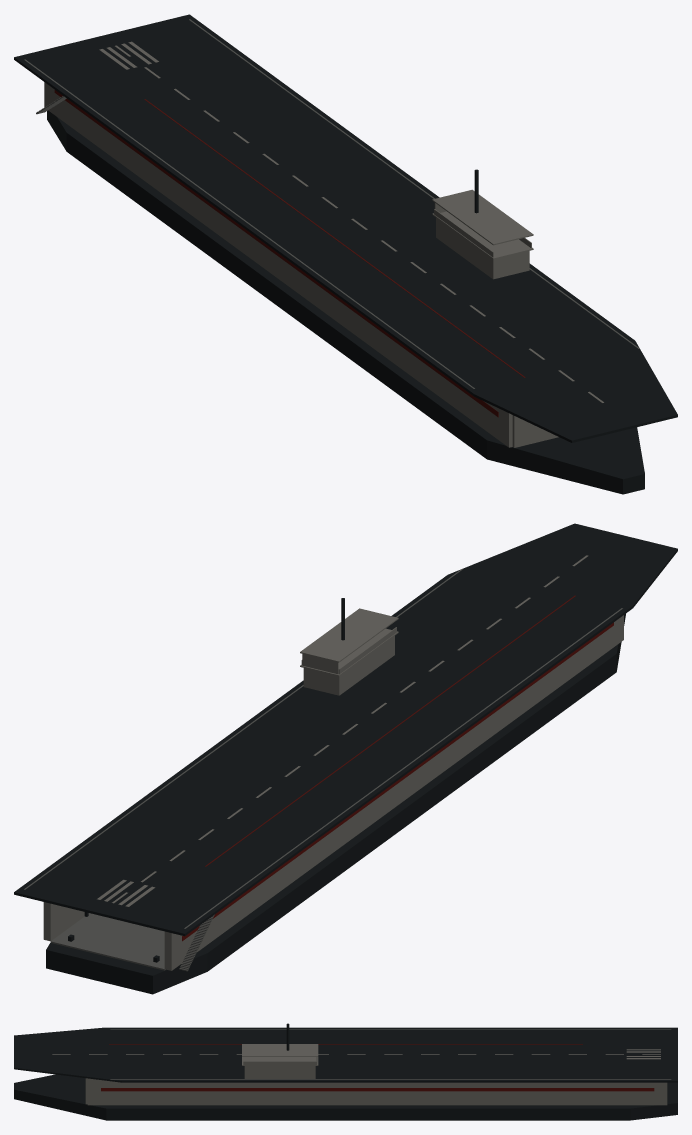
3 renders of one model, top to bottom at view 1: azimuth 30°, elevation 25°; view 2: azimuth 150°, elevation 25°; view 3: azimuth 270°, elevation 25°, orthographic. The views are drawn at different scales.
Visible parts, largest first — view 1: carrier-flight-deck-painted, aircraft-carrier-fleet-machine, aircraft-carrier-fleet-armor, aircraft-carrier-fleet-red; view 2: carrier-flight-deck-painted, aircraft-carrier-fleet-armor, aircraft-carrier-fleet-machine, aircraft-carrier-fleet-edge, aircraft-carrier-fleet-red; view 3: carrier-flight-deck-painted, aircraft-carrier-fleet-armor, aircraft-carrier-fleet-machine, aircraft-carrier-fleet-red.
Boxes of the visible parts, x1,y1,x2,y2 form: carrier-flight-deck-painted: [14, 14, 677, 442]; aircraft-carrier-fleet-machine: [47, 110, 644, 494]; aircraft-carrier-fleet-armor: [44, 82, 558, 447]; aircraft-carrier-fleet-red: [54, 90, 498, 417]; carrier-flight-deck-painted: [14, 523, 677, 936]; aircraft-carrier-fleet-armor: [43, 608, 623, 970]; aircraft-carrier-fleet-machine: [46, 598, 625, 994]; aircraft-carrier-fleet-edge: [50, 913, 214, 971]; aircraft-carrier-fleet-red: [182, 622, 613, 941]; carrier-flight-deck-painted: [14, 1027, 677, 1082]; aircraft-carrier-fleet-armor: [85, 1044, 667, 1105]; aircraft-carrier-fleet-machine: [14, 1023, 677, 1120]; aircraft-carrier-fleet-red: [101, 1088, 654, 1091].
Size of the model in its own units: 253 by 205 by 1326.
